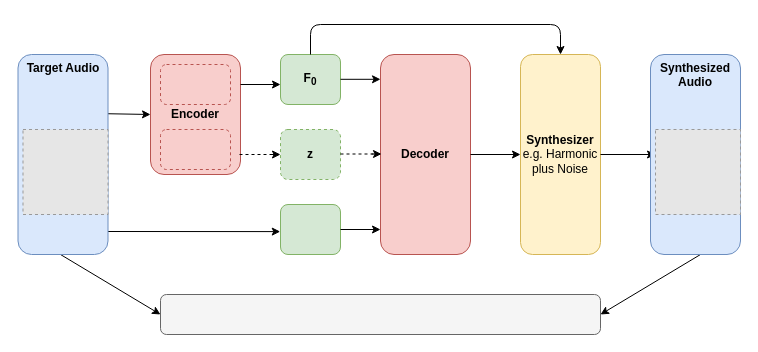
Image size: 758x352. Some labels were removed from this diagram. Grey dashed boxes stand in for pictures. The shapes that lost their labels are listed below. From the top down, each one's box as (x1, y1, x2, y2) in pixels, then its label:
(160, 64, 230, 104): F 0 -Encoder
(160, 128, 230, 170): z-Encoder
(280, 204, 340, 254): loudness
(160, 294, 600, 334): Multiscale Spectrogram Loss
